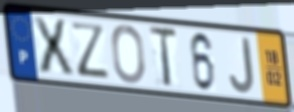6: (189, 31, 218, 94)
J: (228, 36, 257, 96)
O: (110, 23, 148, 86)
T: (146, 25, 180, 90)
X: (30, 15, 77, 78)
Z: (69, 20, 111, 81)
